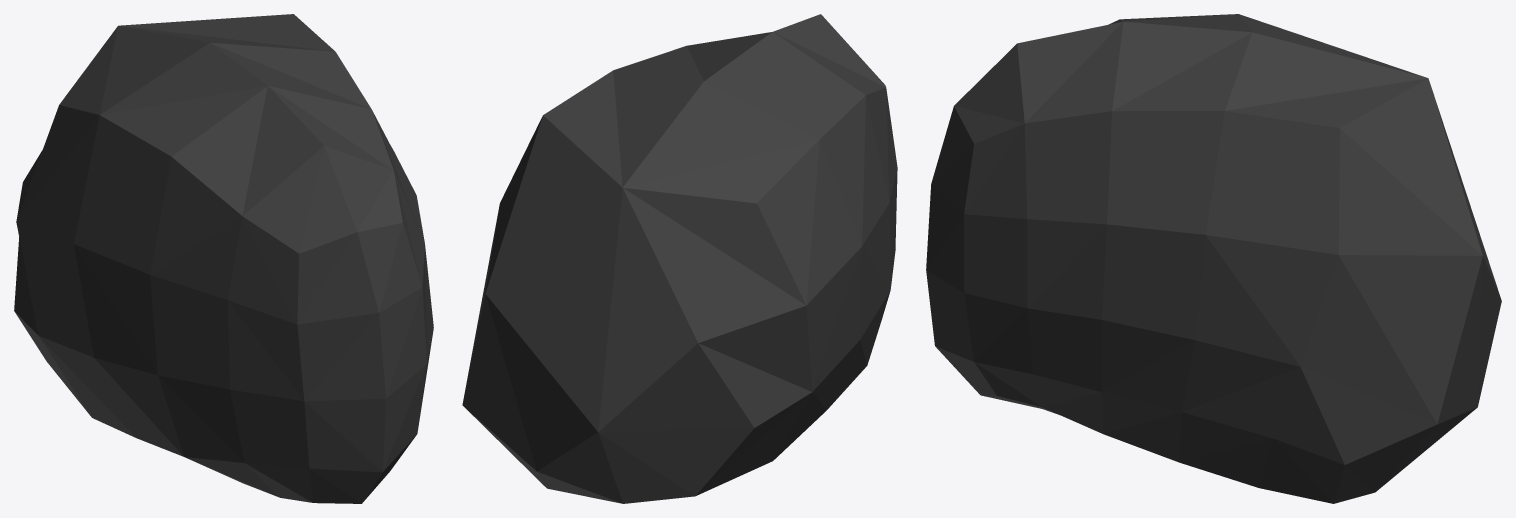
The model's file is LFL_carpal1.glb.
The picture shows the model from 3 angles, left to right: view 1: azimuth 30°, elevation 25°; view 2: azimuth 150°, elevation 25°; view 3: azimuth 270°, elevation 25°; orthographic projection. The views are drawn at different scales.
Visible parts, largest first — view 1: LFL_carpal1; view 2: LFL_carpal1; view 3: LFL_carpal1.
Part boxes in pixels (x1,y1,x2,y2): LFL_carpal1: (14,14,433,503); LFL_carpal1: (462,14,897,503); LFL_carpal1: (926,14,1501,503).
Size of the model in its own units: 3.11 by 3.73 by 4.66.
Materials: 1 (1 with a texture image).
